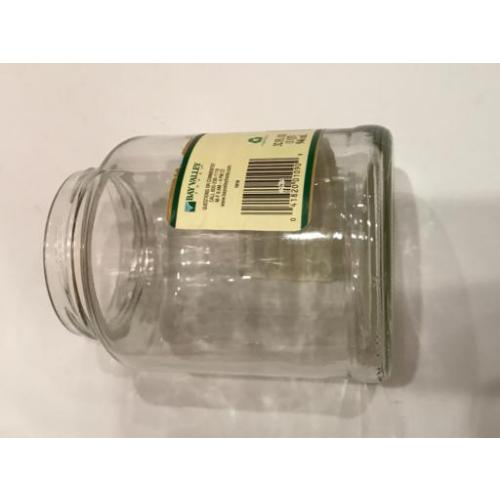glass: (45, 124, 392, 378)
